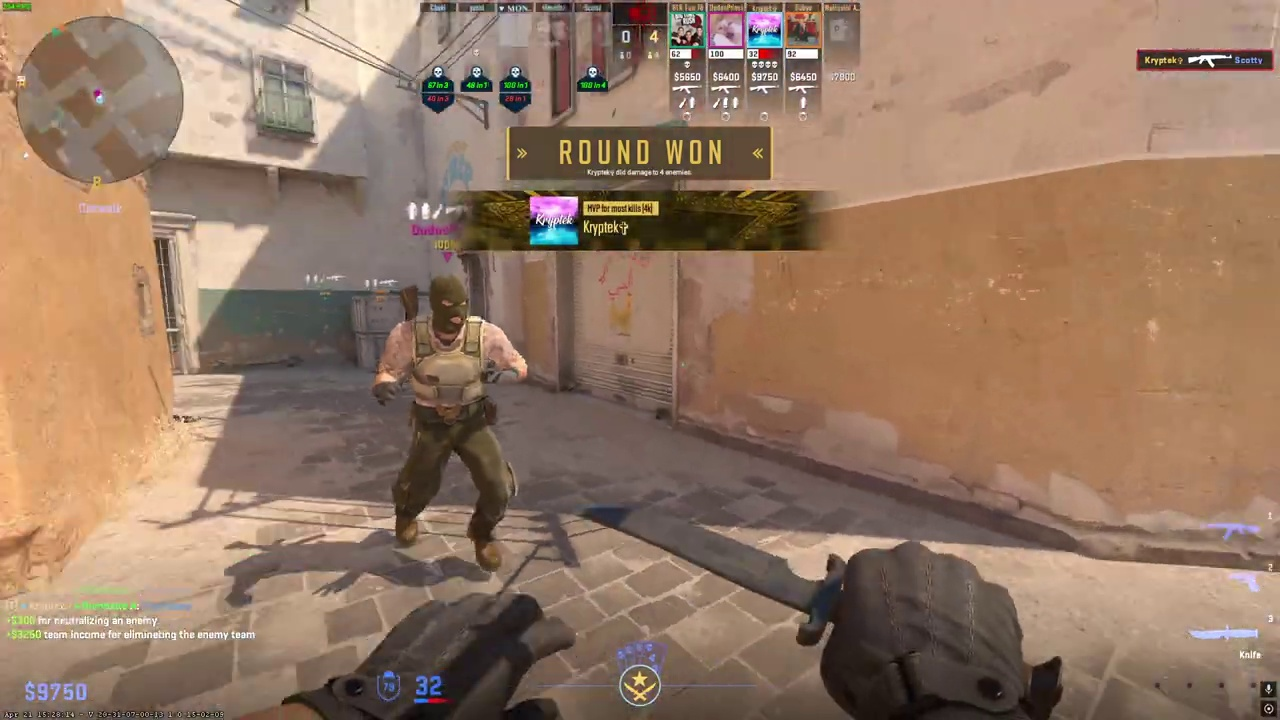Terrorist: (380, 275, 517, 571)
